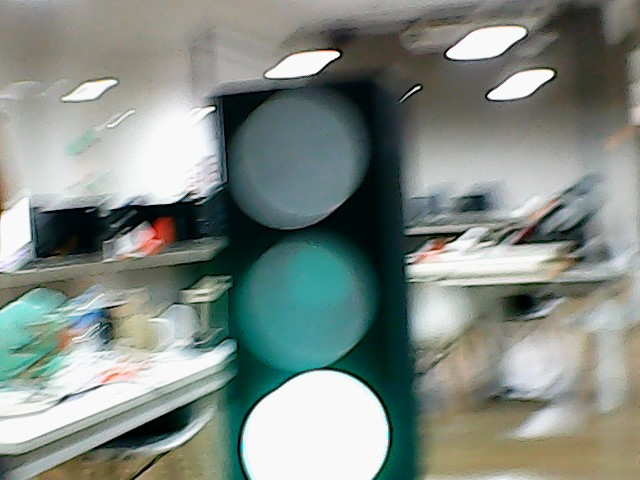verde: (163, 83, 429, 480)
